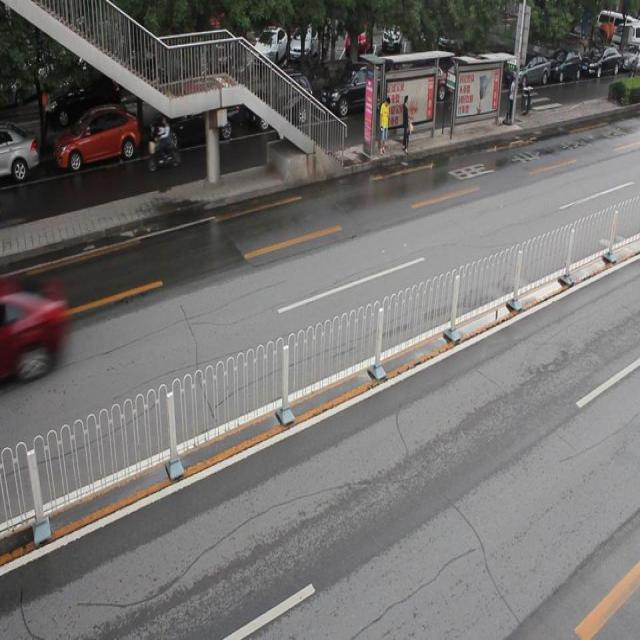car: (1, 274, 68, 378), (149, 94, 241, 150), (55, 111, 139, 166), (248, 75, 314, 134), (318, 66, 390, 120), (1, 124, 38, 181)
